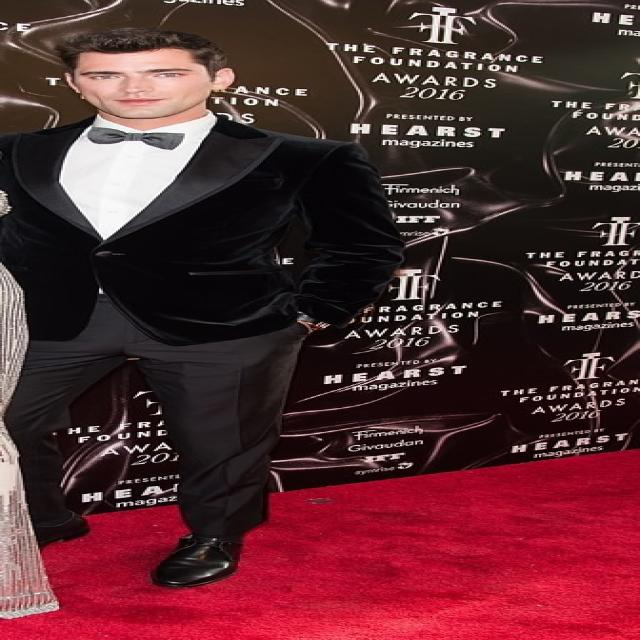human: (0, 28, 427, 587)
